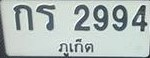txt01: (12, 4, 35, 31)
txt30: (35, 3, 56, 31)
